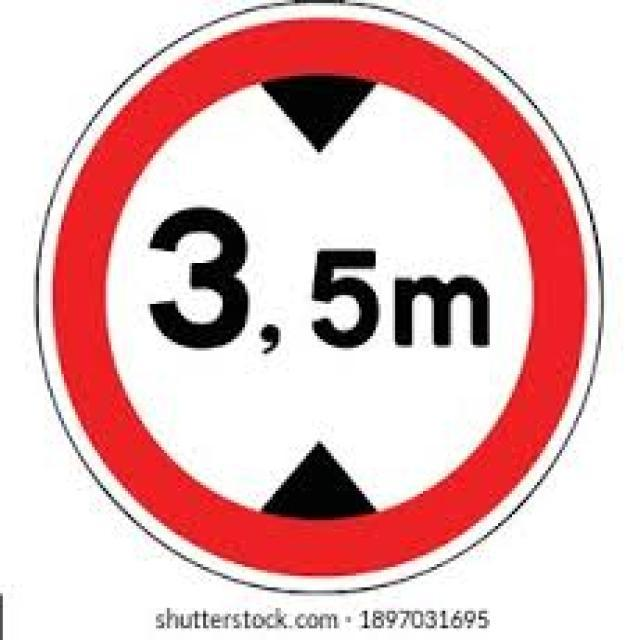height limit: (48, 12, 596, 580)
